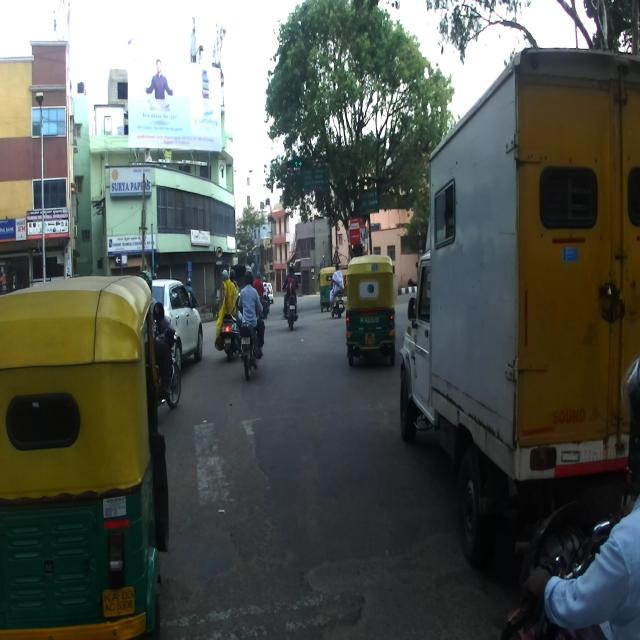autorickshaw: (0, 272, 170, 639), (344, 254, 396, 366)
car: (150, 278, 202, 362)
motorcycle: (499, 499, 626, 639), (149, 316, 181, 406), (238, 291, 264, 381), (282, 281, 298, 330)
scooter: (218, 290, 242, 361), (329, 286, 345, 318)
truck: (398, 47, 640, 566)
